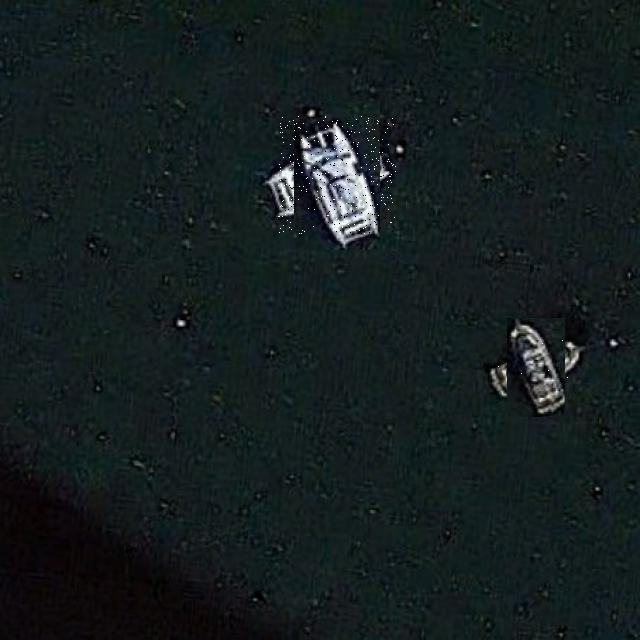boat: (278, 116, 396, 235), (497, 327, 576, 407)
